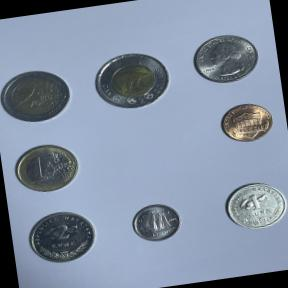1 Euro: (7, 137, 86, 198)
2 Euro: (0, 63, 76, 128)
Canda-10cent-: (126, 198, 186, 246)
Canda-2Dollar-: (86, 44, 178, 116)
Croatia-2Kune-: (21, 204, 104, 270)
US-1cent-: (214, 97, 279, 147)
US-25cent-: (186, 27, 266, 90)
